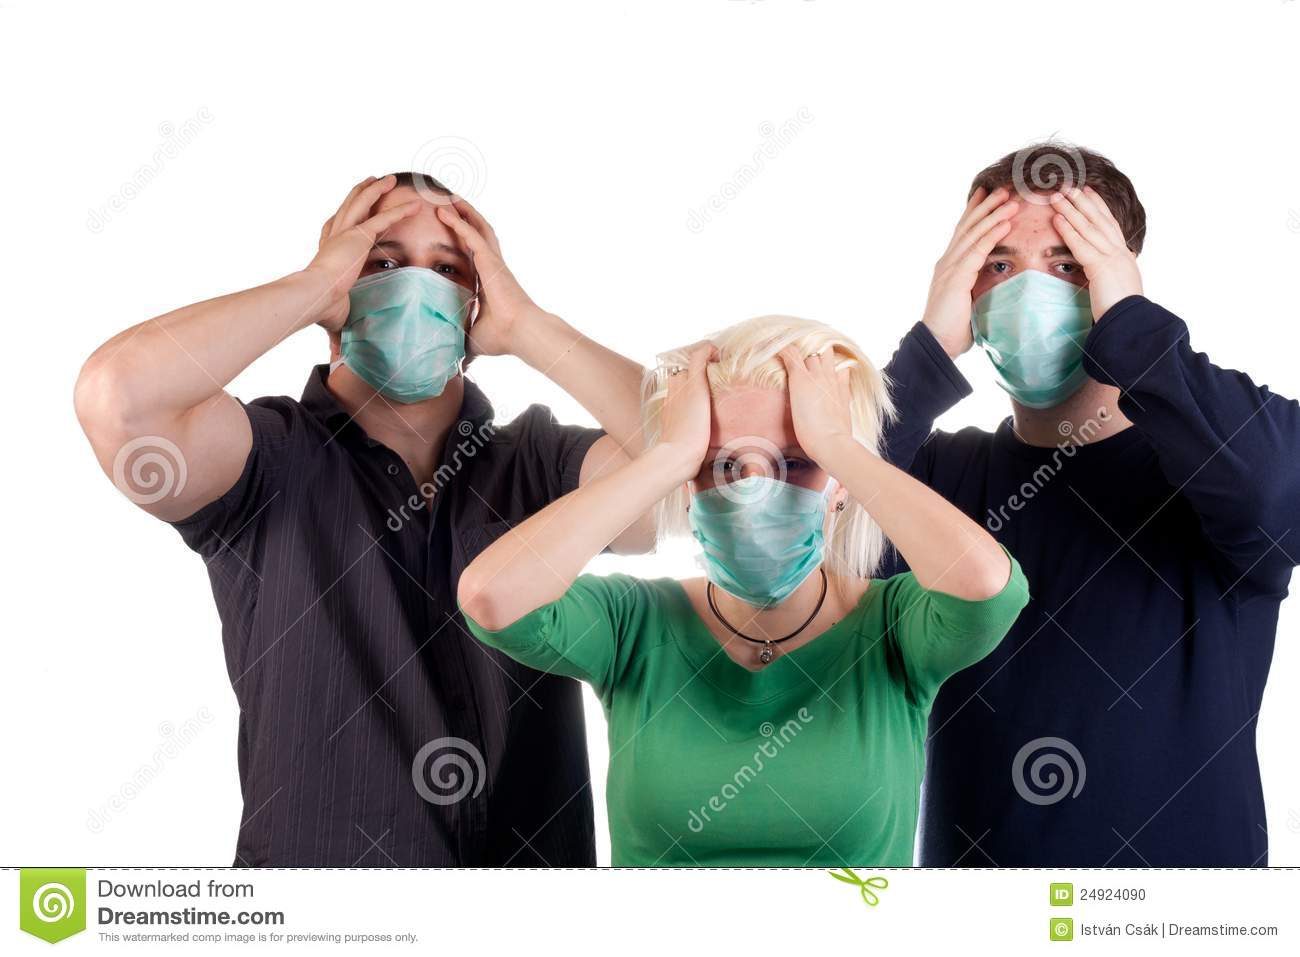mask: (964, 273, 1097, 415), (339, 272, 479, 404), (685, 478, 831, 605)
